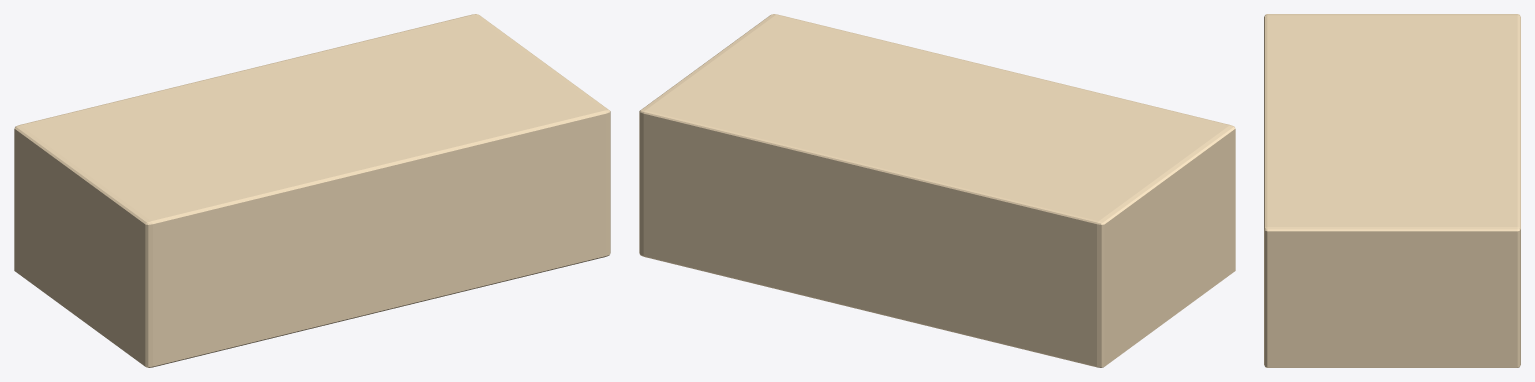
Rendered from toys_wood block_middle.fbx.
3 renders of one model, left to right at view 1: azimuth 30°, elevation 25°; view 2: azimuth 150°, elevation 25°; view 3: azimuth 270°, elevation 25°, orthographic. The views are drawn at different scales.
Visible parts, largest first — view 1: Cube.001; view 2: Cube.001; view 3: Cube.001.
Part boxes in pixels (box(x1,y1,x2,y2)): Cube.001: box(14, 14, 610, 367); Cube.001: box(639, 14, 1235, 367); Cube.001: box(1264, 14, 1520, 367).
Bounding box in the file's own units: 200 × 60 × 100.
